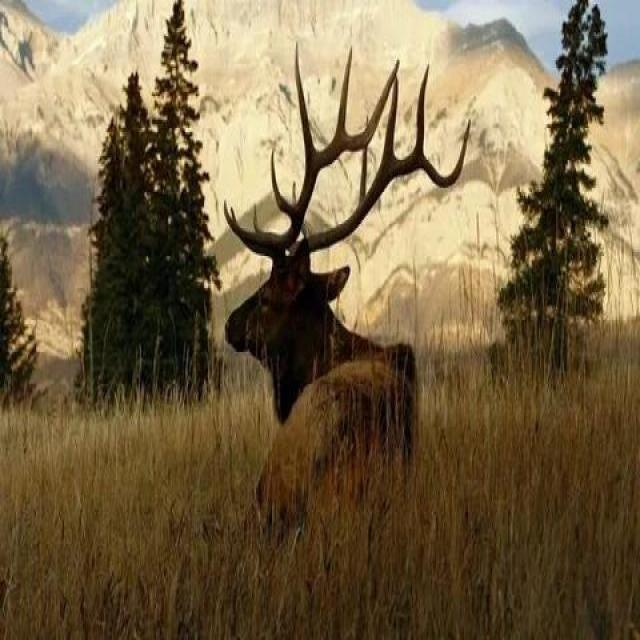deer: (168, 116, 448, 512)
